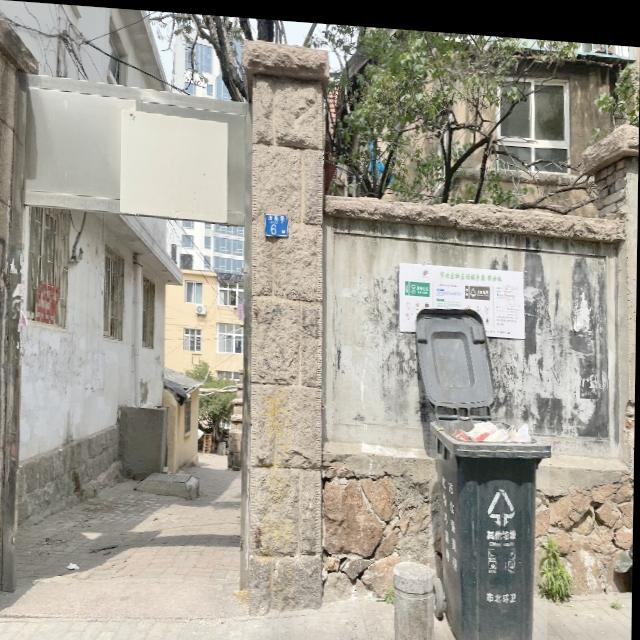overflow: (429, 406, 552, 640)
